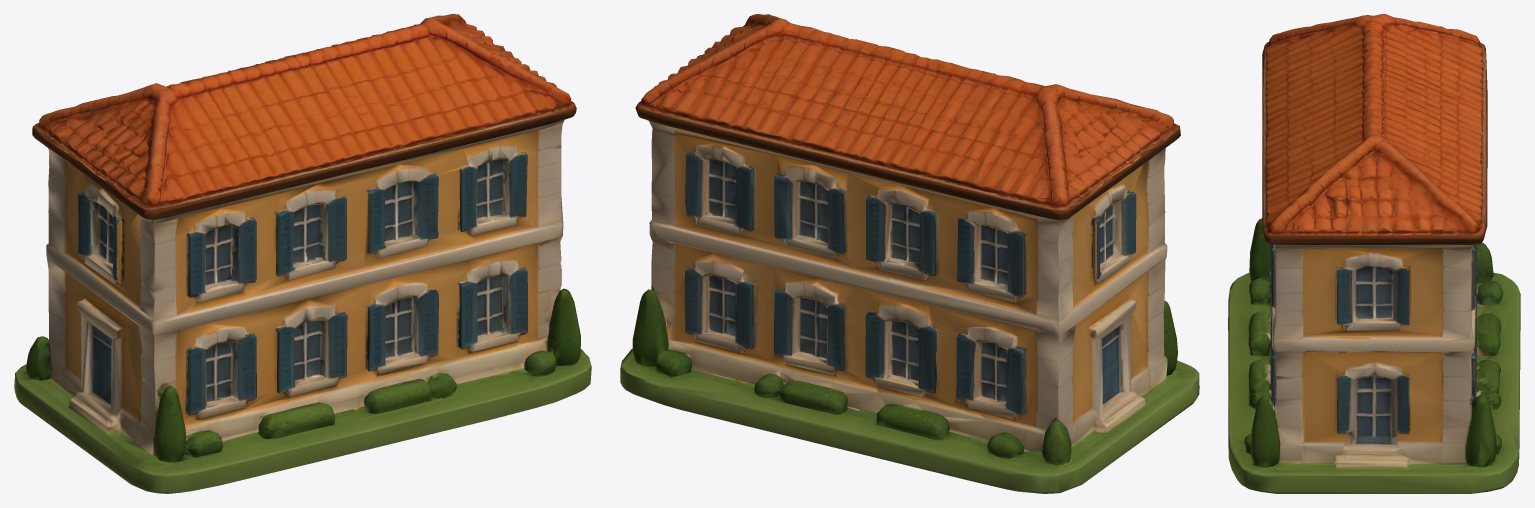
File: cuneo-2022-schoolroom.glb
3 renders of one model, left to right at view 1: azimuth 30°, elevation 25°; view 2: azimuth 150°, elevation 25°; view 3: azimuth 270°, elevation 25°, orthographic. The views are drawn at different scales.
Parts seen in each view (by area): view 1: textured_mesh.obj; view 2: textured_mesh.obj; view 3: textured_mesh.obj.
Part boxes in pixels (x1,y1,x2,y2): textured_mesh.obj: [14, 14, 591, 493]; textured_mesh.obj: [620, 14, 1199, 493]; textured_mesh.obj: [1228, 14, 1520, 493].
Bounding box in the file's own units: 1.41 × 0.9994 × 0.8454.
Materials: 1 (1 with a texture image).
